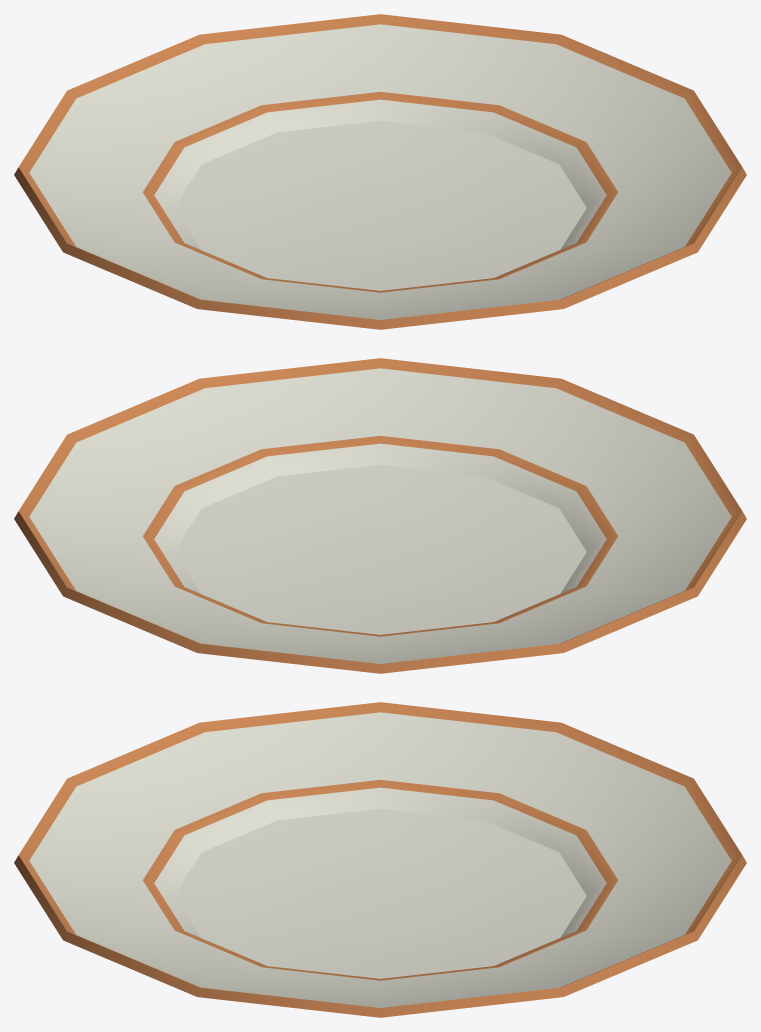
Rendered from Plate_meal.fbx.
3 renders of one model, top to bottom at view 1: azimuth 30°, elevation 25°; view 2: azimuth 150°, elevation 25°; view 3: azimuth 270°, elevation 25°, orthographic.
Parts seen in each view (by area): view 1: Plate_meal; view 2: Plate_meal; view 3: Plate_meal.
Part boxes in pixels (x1,y1,x2,y2): Plate_meal: (14,14,746,329); Plate_meal: (14,358,746,673); Plate_meal: (14,702,746,1017).
Bounding box in the file's own units: 0.2985 × 0.0263 × 0.2985.
